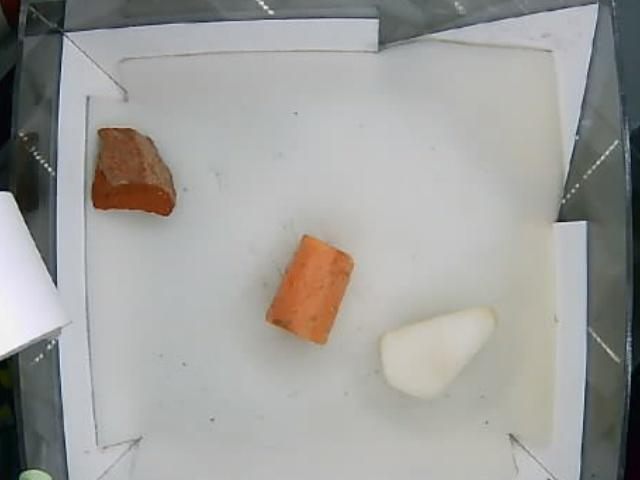Brisk: (94, 128, 179, 216)
Carrot: (269, 233, 353, 348)
Mooli: (376, 307, 500, 403)
